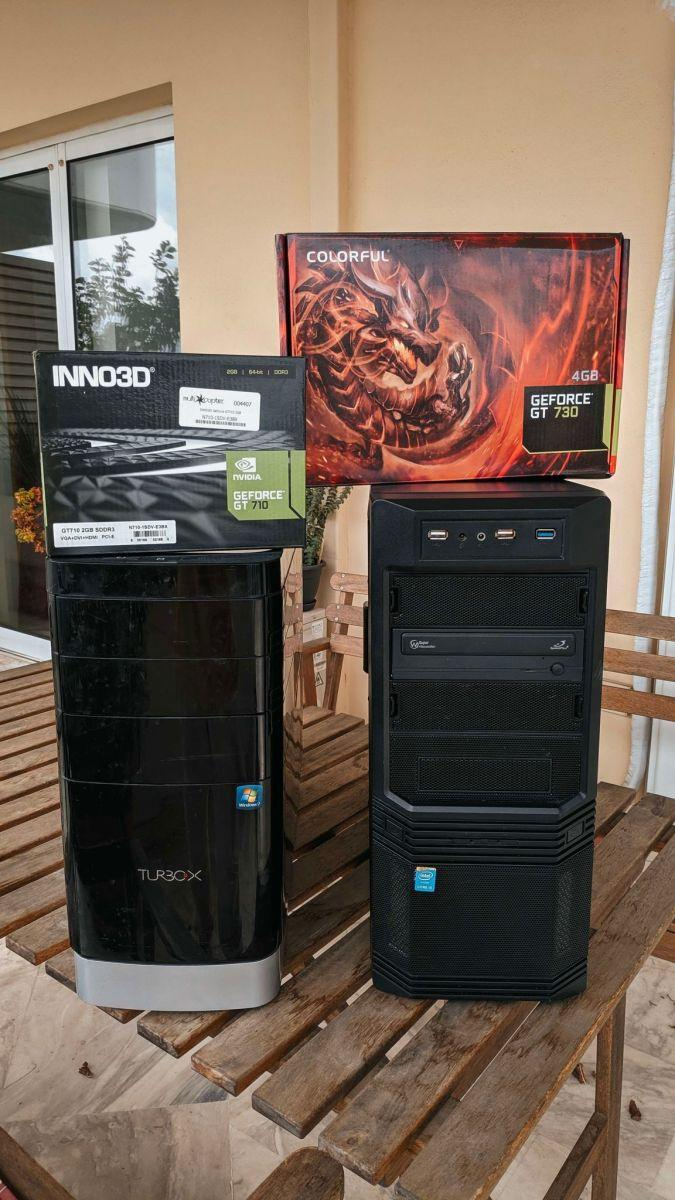DESKTOP PC: (362, 485, 609, 1000), (50, 549, 303, 1009)
